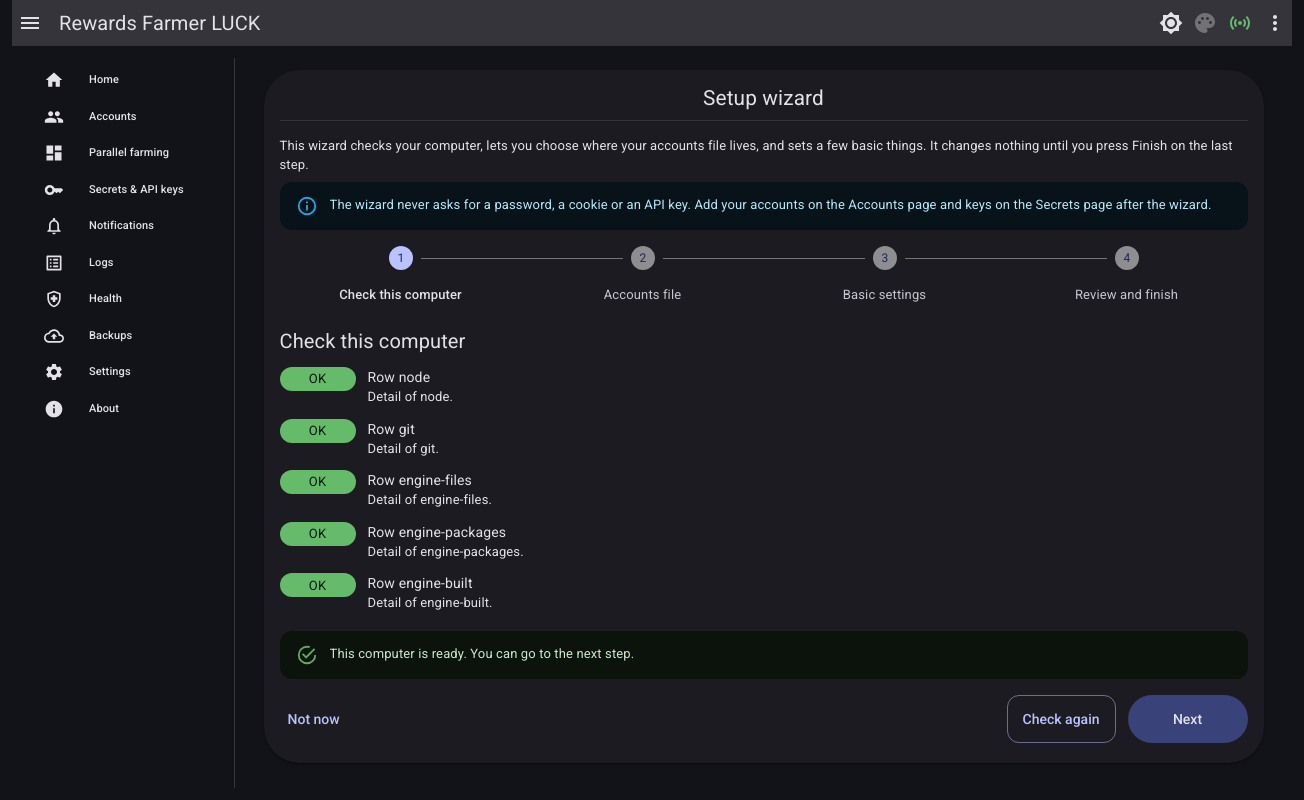
Scenario: step 2: accounts file › the buttons send only the words default and pick
Expected: the text "This computer is ready. You can go to the next step." is shown, x1=330 y1=646 x2=634 y2=661
Click the button "Next" at (1188, 719), box x1=1128 y1=695 x2=1248 y2=743
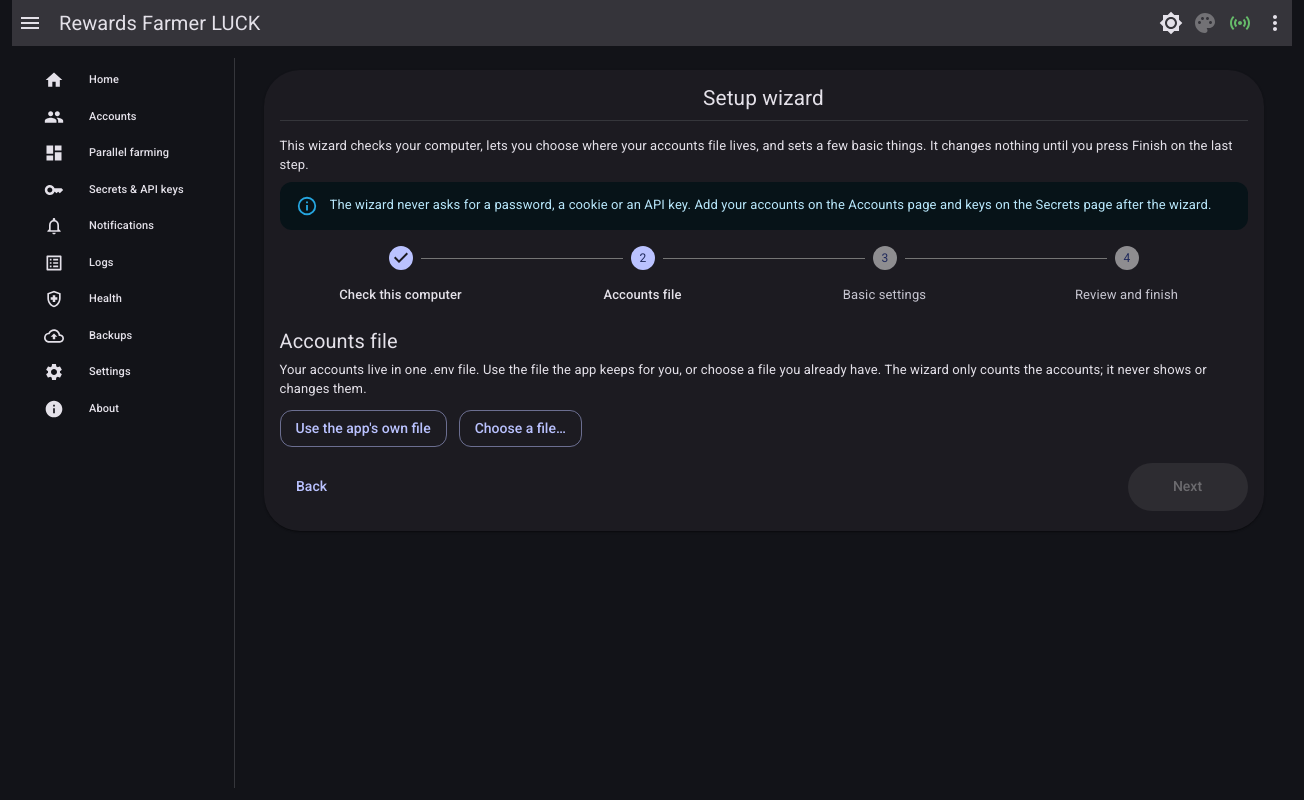
Now the heading "Accounts file" is shown, box x1=280 y1=329 x2=398 y2=353
Click the button "Use the app's own file" at (363, 428), box x1=280 y1=410 x2=447 y2=447
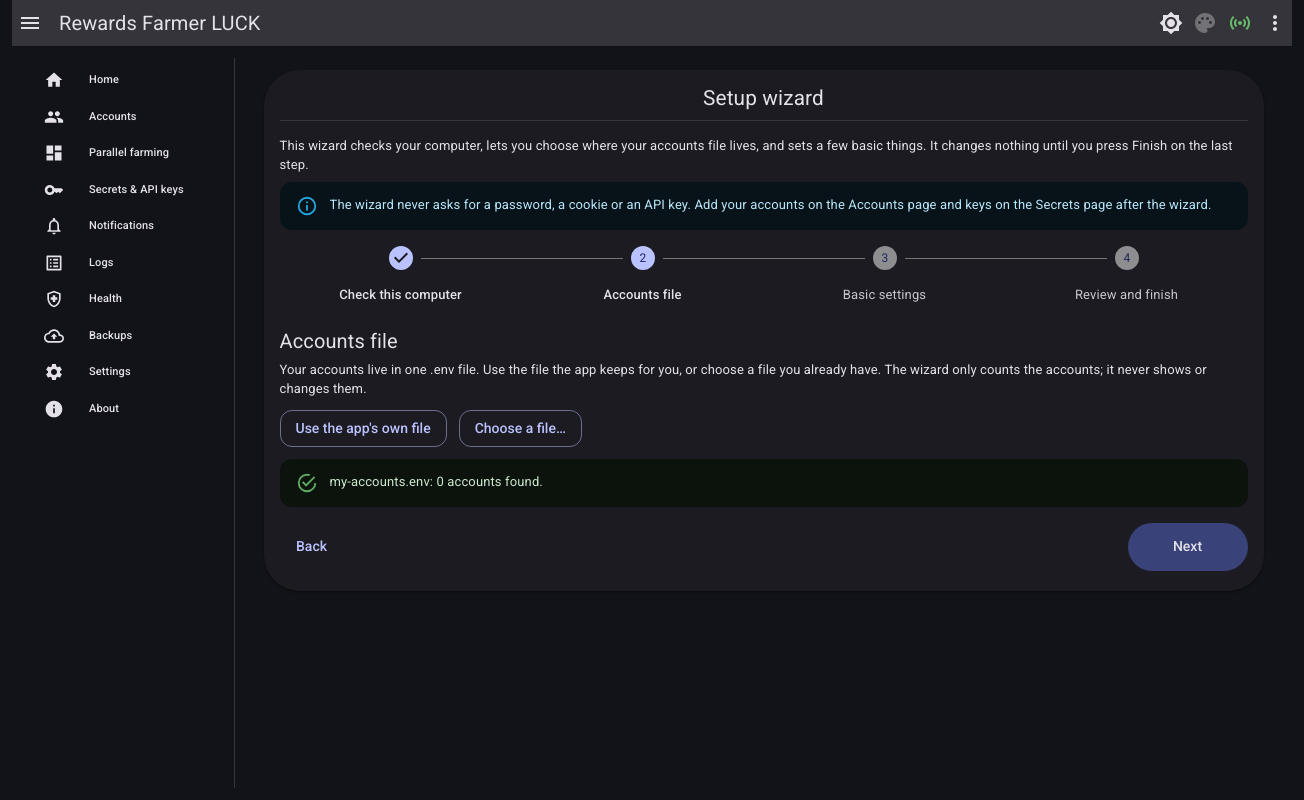
Now the text "my-accounts.env: 0 accounts found." is shown, box x1=330 y1=474 x2=543 y2=489
Click the button "Choose a file…" at (520, 428), box x1=459 y1=410 x2=582 y2=447
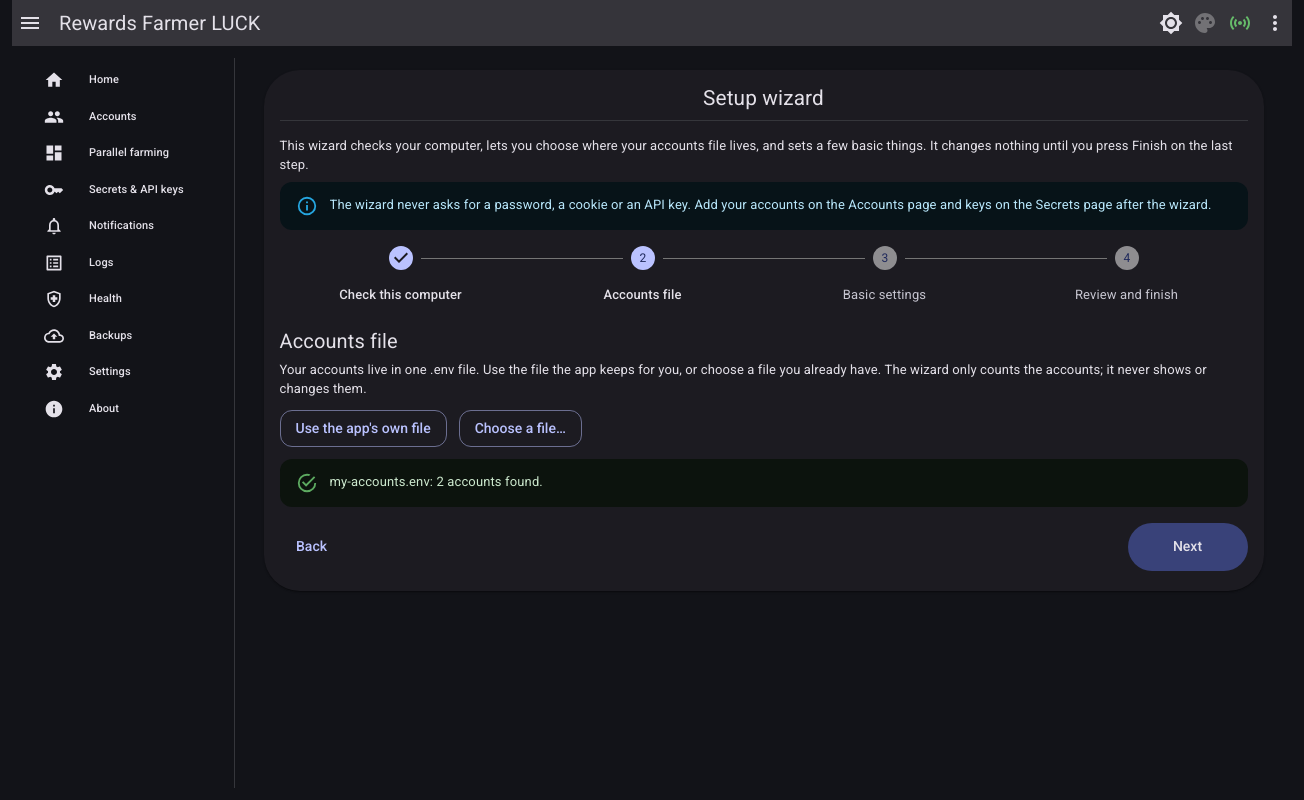
Now the text "my-accounts.env: 2 accounts found." is shown, box x1=330 y1=474 x2=543 y2=489
